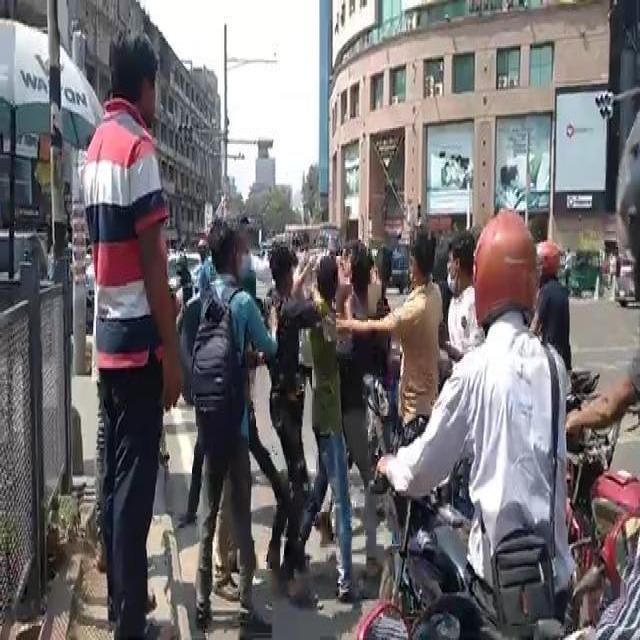fight: (253, 211, 462, 536), (421, 242, 582, 620), (72, 23, 166, 633)
